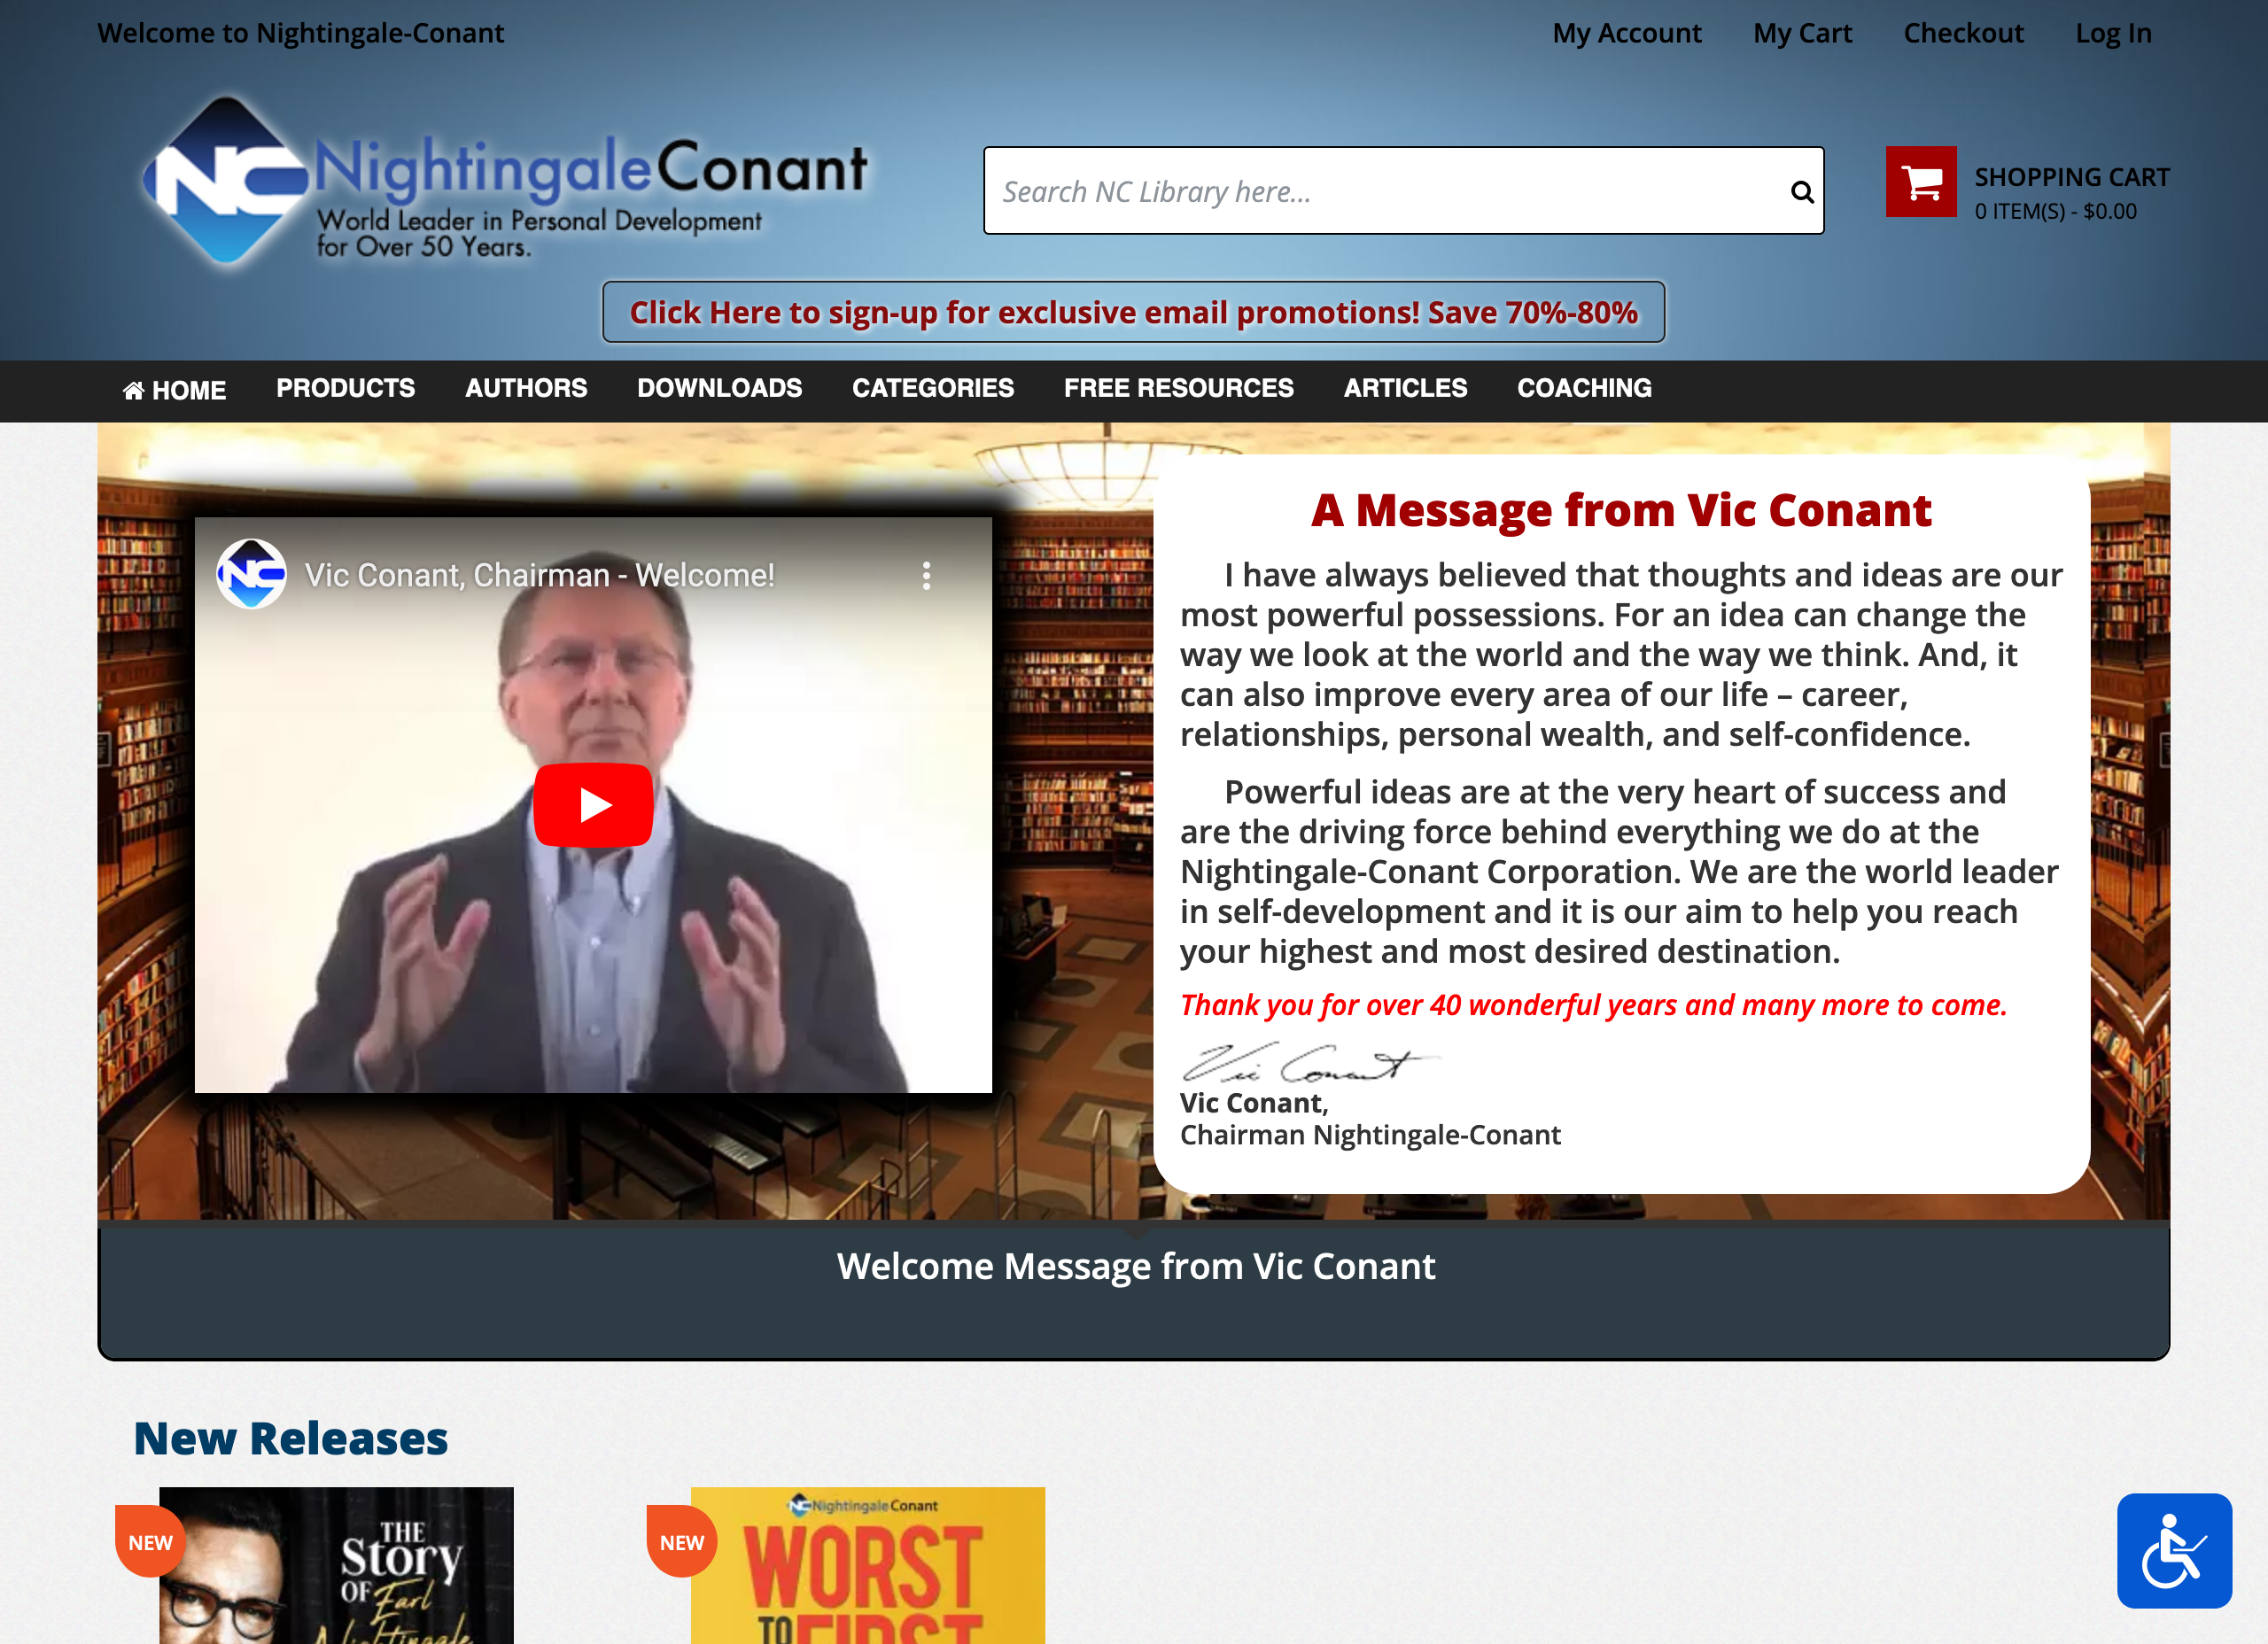Login: (2069, 7, 2166, 62)
